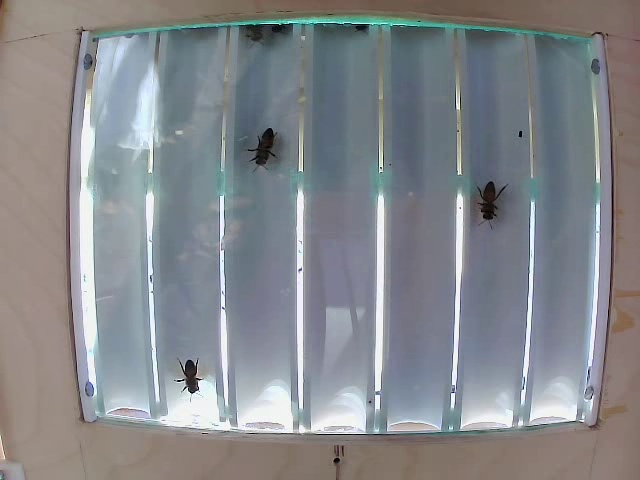bee: (476, 162, 505, 229), (246, 122, 288, 167), (168, 344, 207, 391)
